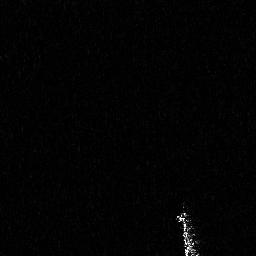ship: (173, 199, 202, 256)
